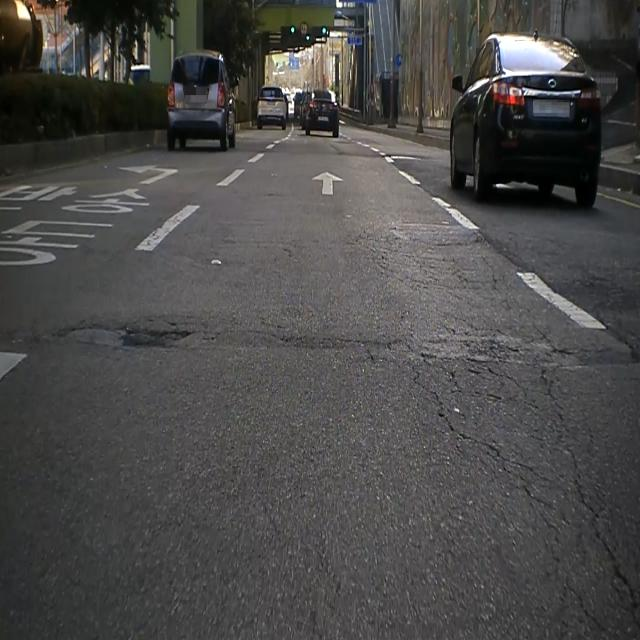Pothole: (50, 313, 206, 360)
